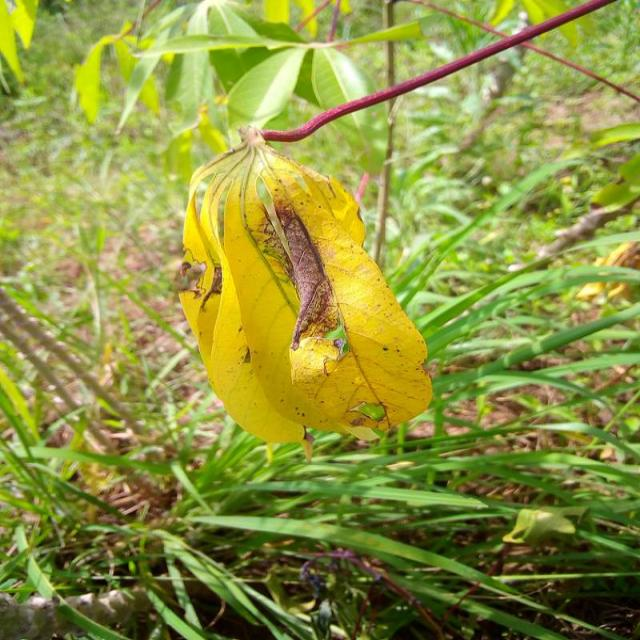cassava leaf: (176, 125, 434, 455)
